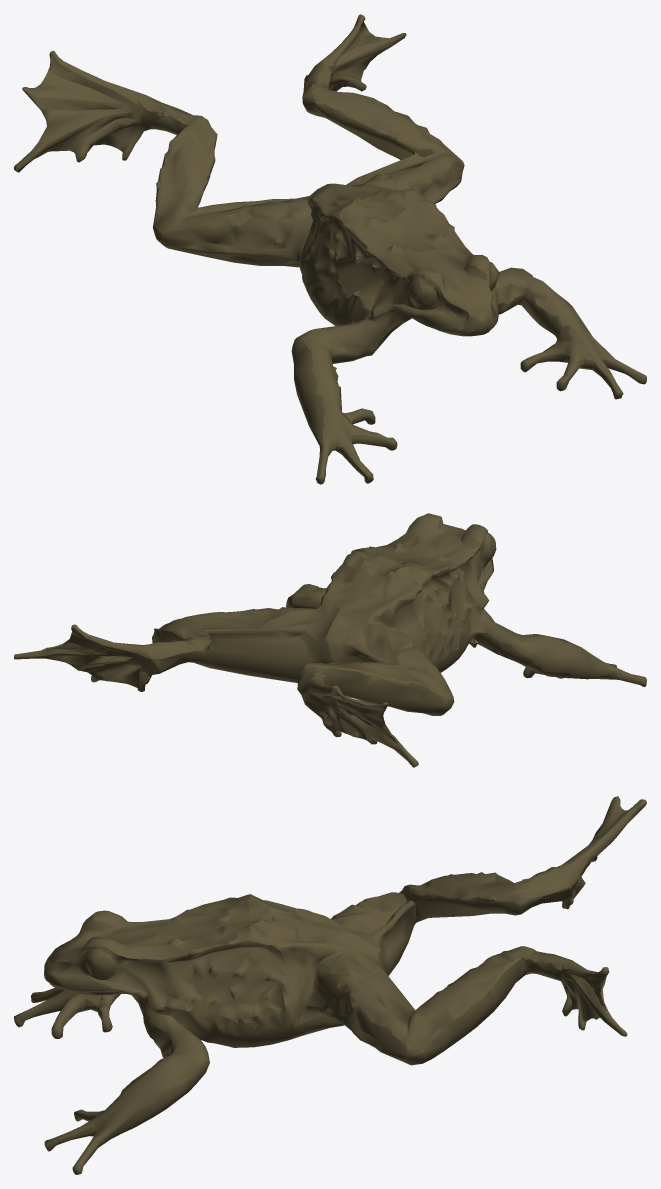
Rendered from commonfrog.swim.lo.glb.
3 views of the same model, one above another, from view 1: azimuth 30°, elevation 25°; view 2: azimuth 150°, elevation 25°; view 3: azimuth 270°, elevation 25° (orthographic). The views are drawn at different scales.
Visible parts, largest first — view 1: commonfrog.swim; view 2: commonfrog.swim; view 3: commonfrog.swim.
Part boxes in pixels (box(x1,y1,x2,y2)): commonfrog.swim: box(14, 14, 646, 484); commonfrog.swim: box(14, 513, 646, 767); commonfrog.swim: box(14, 796, 646, 1174).
Size of the model in its own units: 0.1001 by 0.0502 by 0.1308.
